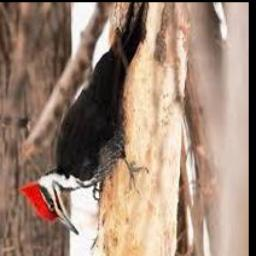Woodpecker: (19, 3, 146, 236)
